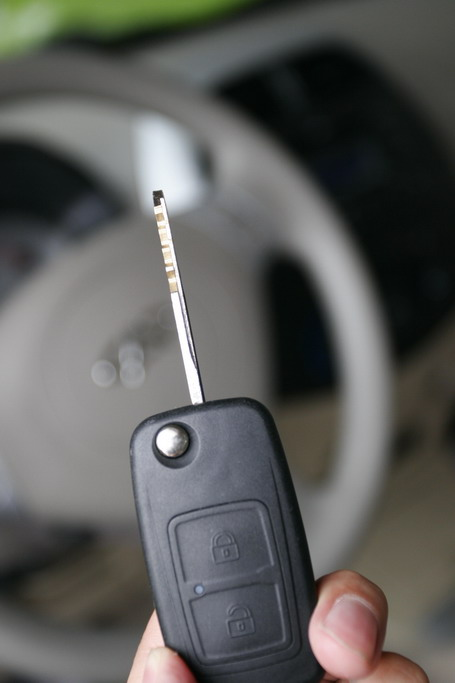key: (119, 180, 330, 683)
